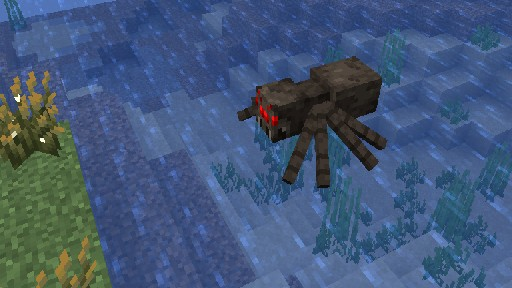spider: (236, 55, 387, 188)
